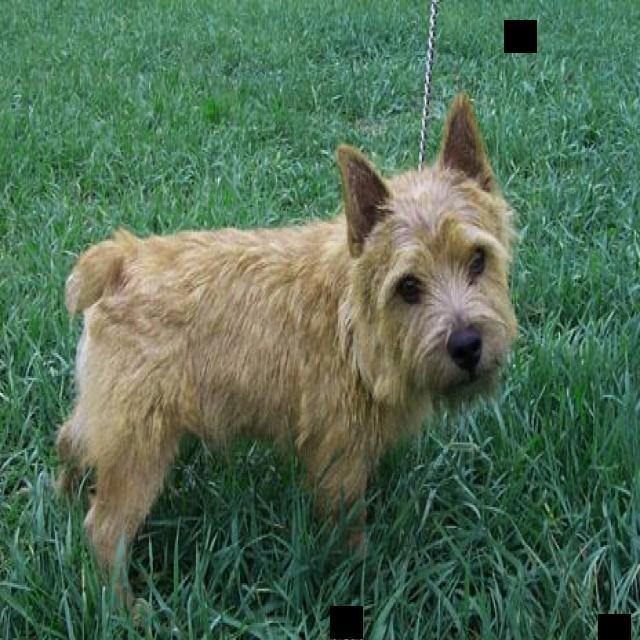adult_dog: (39, 87, 523, 596)
